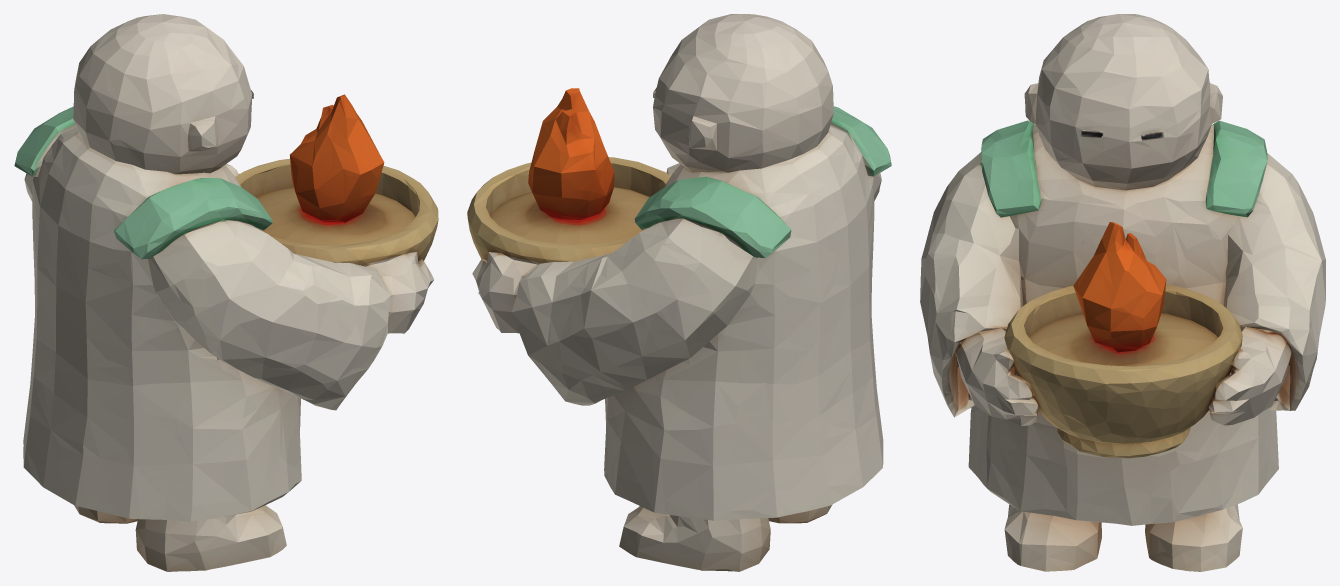
Rendered from ember_acolyte.glb.
The picture shows the model from 3 angles, left to right: view 1: azimuth 30°, elevation 25°; view 2: azimuth 150°, elevation 25°; view 3: azimuth 270°, elevation 25°; orthographic projection.
Parts seen in each view (by area): view 1: tripo_node_13372967-3dfb-4f24-b6f0-0e258c687ce3; view 2: tripo_node_13372967-3dfb-4f24-b6f0-0e258c687ce3; view 3: tripo_node_13372967-3dfb-4f24-b6f0-0e258c687ce3.
Boxes of the visible parts, box(x1,y1,x2,y2) form: tripo_node_13372967-3dfb-4f24-b6f0-0e258c687ce3: box(14, 14, 438, 571); tripo_node_13372967-3dfb-4f24-b6f0-0e258c687ce3: box(467, 14, 891, 571); tripo_node_13372967-3dfb-4f24-b6f0-0e258c687ce3: box(920, 14, 1325, 571).
Bounding box in the file's own units: 0.697 × 0.887 × 0.6422.
1 material, 1 textured.
